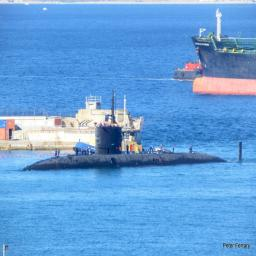submarine: (24, 124, 246, 173)
